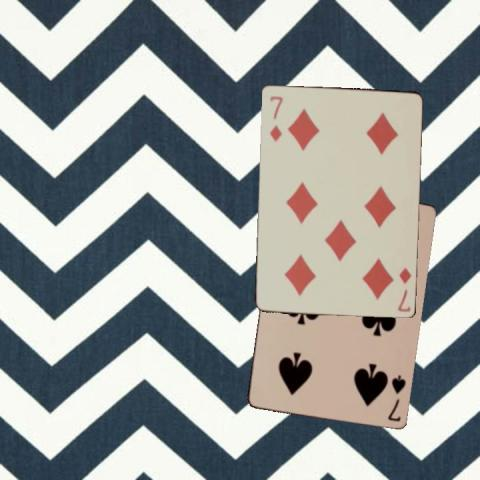7d: (266, 92, 284, 142), (394, 264, 412, 314)
7s: (385, 371, 407, 423)
